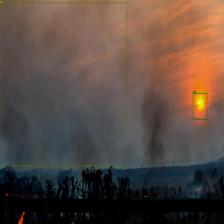fire: (6, 195, 47, 224)
smoke: (0, 2, 127, 166)
